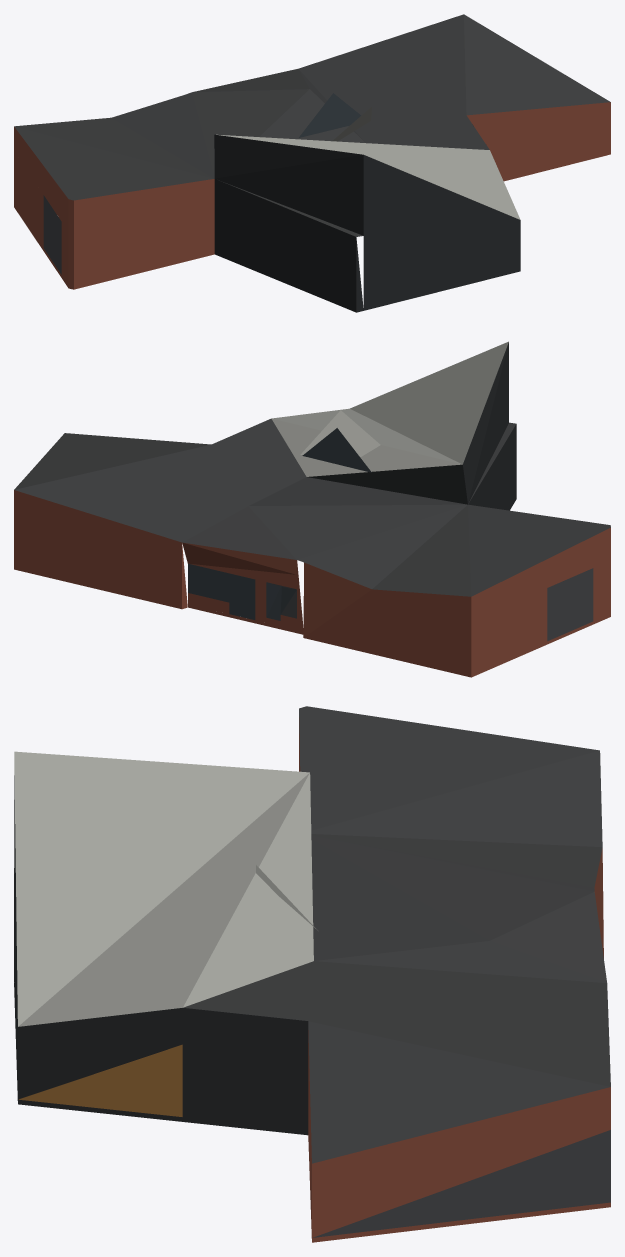
The model's file is archipel-makassarplein.lod2.glb.
3 views of the same model, one above another, from view 1: azimuth 30°, elevation 25°; view 2: azimuth 150°, elevation 25°; view 3: azimuth 270°, elevation 25° (orthographic). The views are drawn at different scales.
Parts seen in each view (by area): view 1: lod2; view 2: lod2; view 3: lod2.
Part boxes in pixels (x1,y1,x2,y2): lod2: (14,14,610,312); lod2: (14,341,610,677); lod2: (14,706,610,1242).
Bounding box in the file's own units: 27.21 × 7.46 × 17.1.
